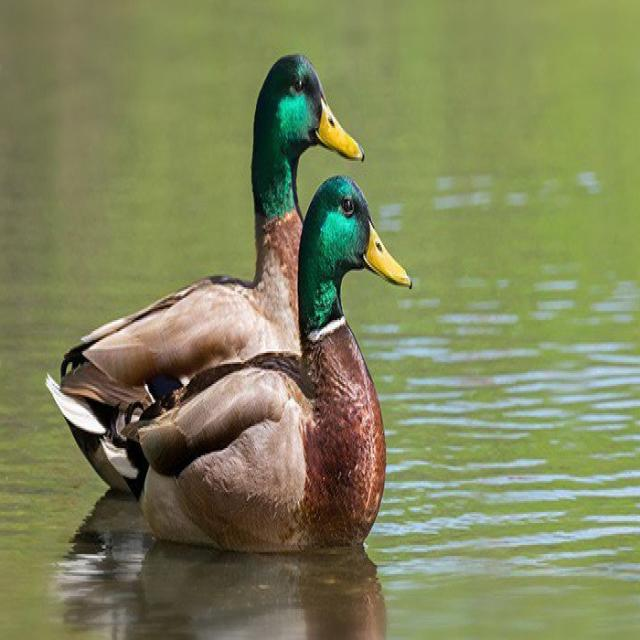duck: (47, 55, 364, 496), (101, 176, 412, 550)
